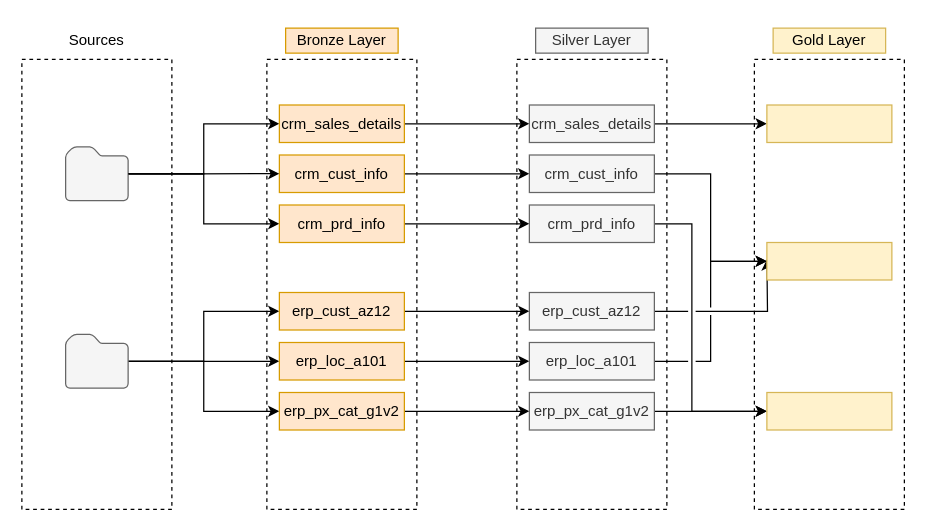
The diagram is 926 pixels wide and 531 high, and some of its shapes have lost their labels. The shapes that lost their labels are listed below. From the top down, each one's centre as x and y in pixels, then its label:
(x=829, y=123): fact_sales
(x=96, y=173): CRM
(x=829, y=260): dim_customers
(x=96, y=360): ERM
(x=829, y=410): dim_products
